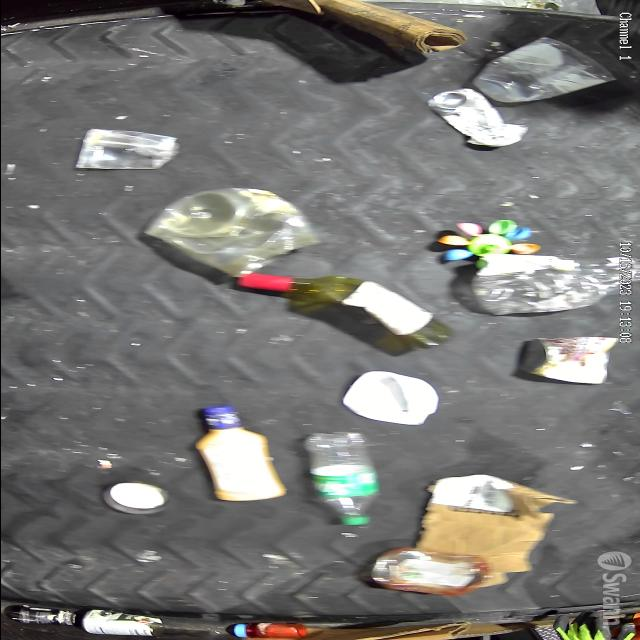can: (426, 86, 530, 149), (361, 547, 491, 596), (518, 334, 620, 387), (78, 608, 168, 638), (102, 480, 172, 516), (9, 602, 77, 626)
plastic_bottle: (470, 253, 640, 317), (302, 430, 382, 528)
